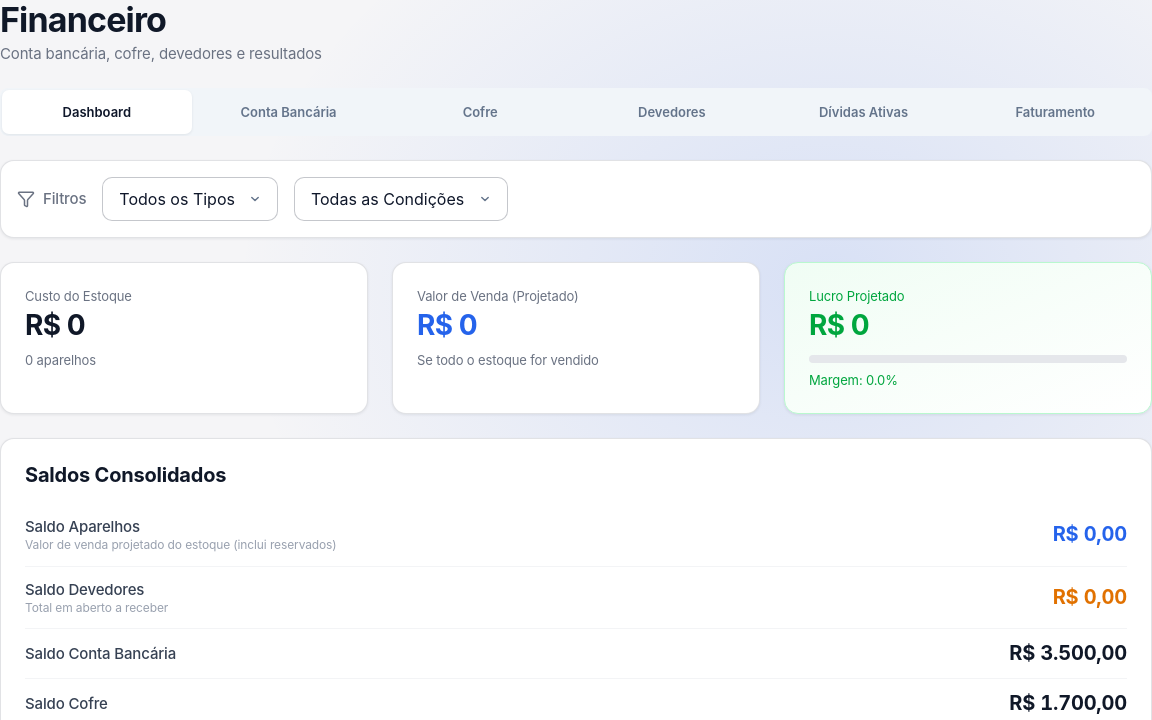
Test: Finance account integrity guards › renders summary cards for Bank and Safe tabs showing filtered totals
Note: Navegar para Conta Bancária
Click the button with test id "finance-tab-bank". click: click(289, 112)
box: [194, 90, 383, 134]
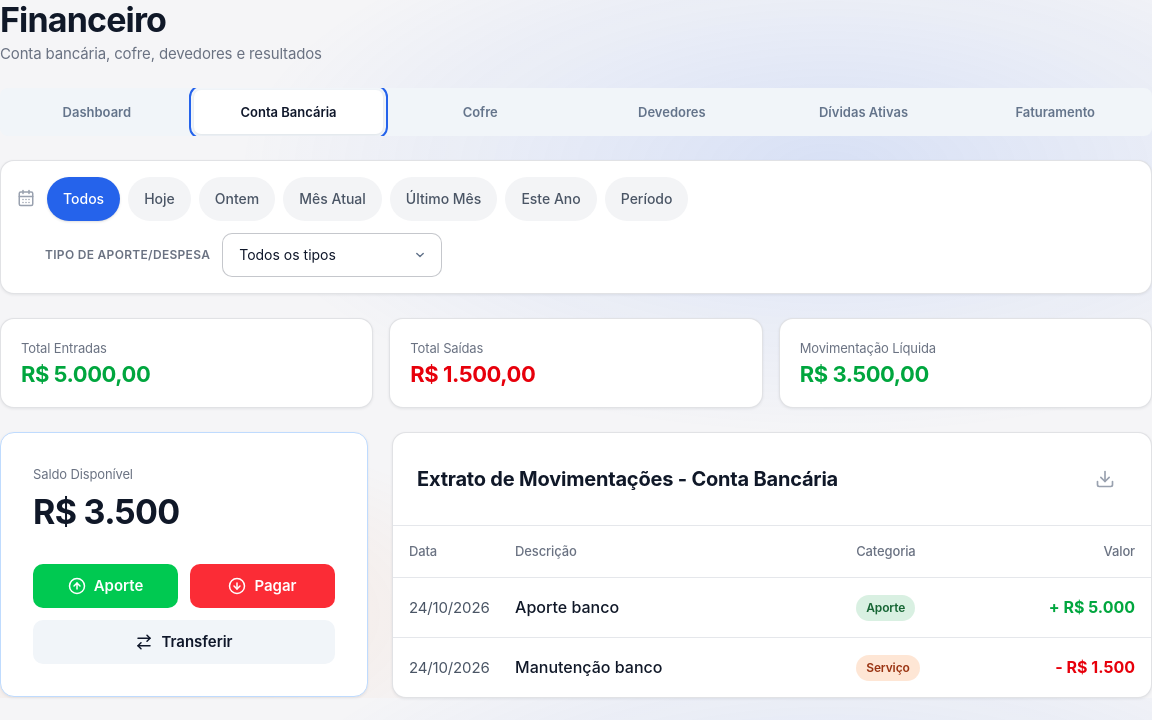
Now the text "Total Entradas" is shown, box [21, 340, 107, 356]
Now the text "R$ 5.000,00" is shown, box [21, 361, 150, 387]
Now the text "Total Saídas" is shown, box [410, 340, 483, 356]
Note: Navegar para Cofre
Click the button with test id "finance-tab-safe". click: click(480, 112)
box: [385, 90, 575, 134]
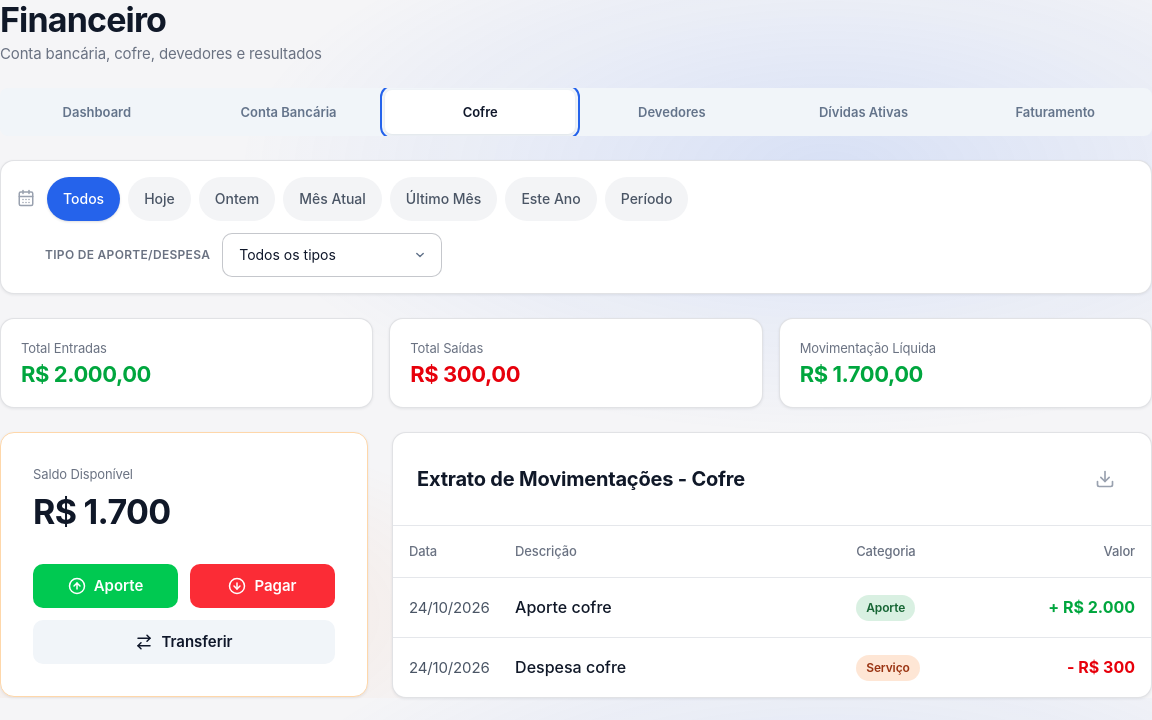
Now the text "Total Entradas" is shown, box [21, 340, 107, 356]
Now the text "Total Saídas" is shown, box [410, 340, 483, 356]
Now the text "R$ 2.000,00" is shown, box [21, 361, 151, 387]
